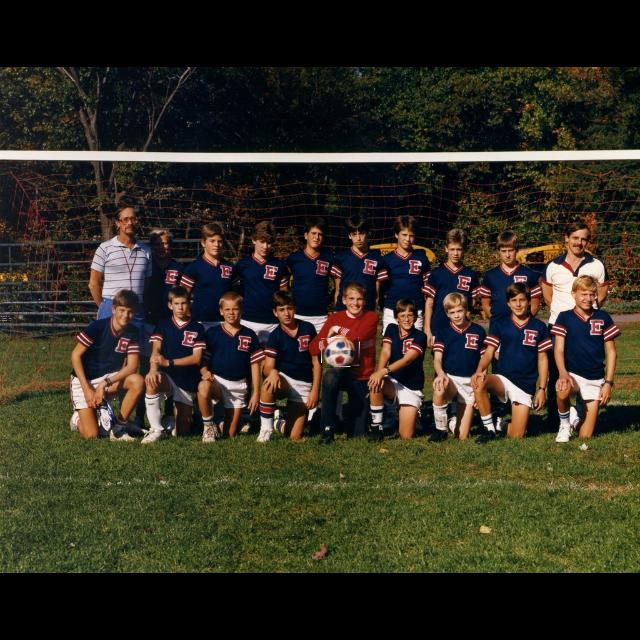Football: (322, 338, 360, 368)
